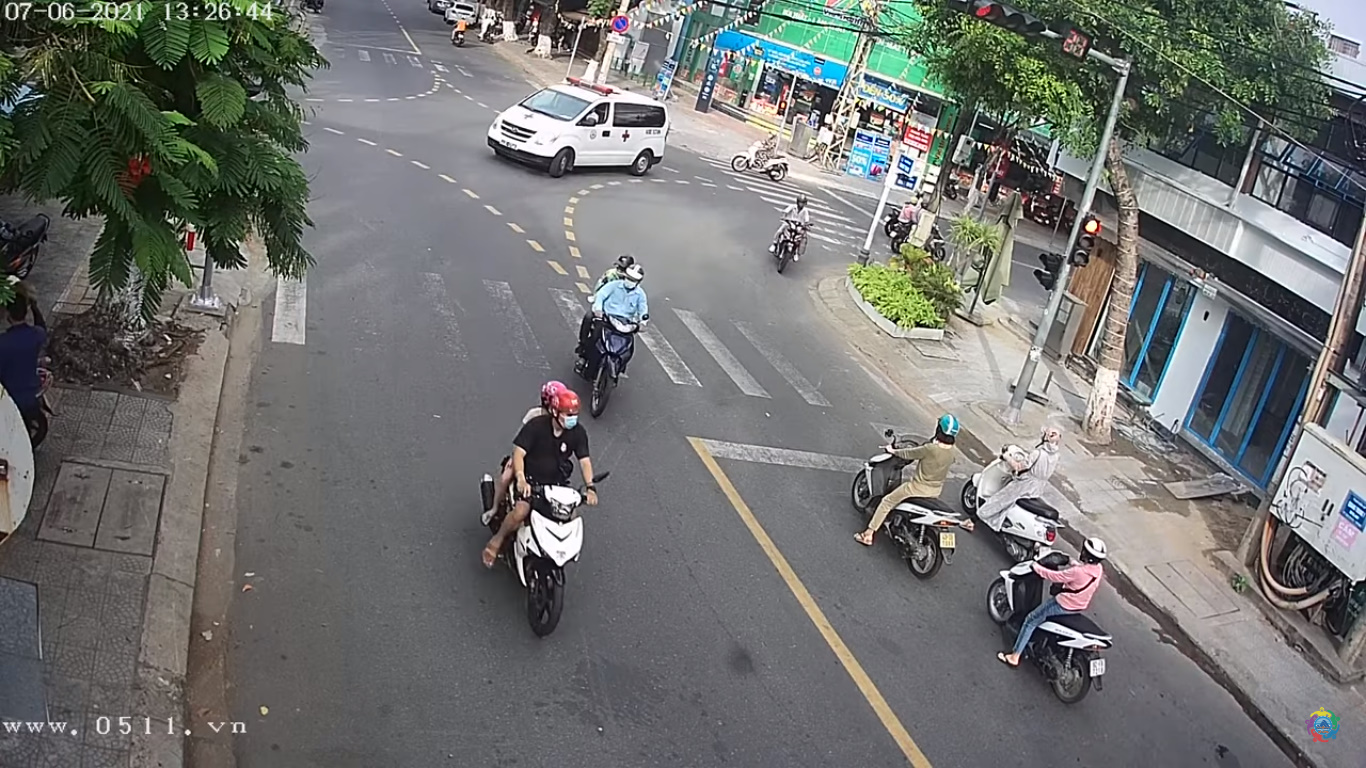car: (486, 82, 676, 180)
motorbike: (471, 380, 607, 646), (566, 254, 653, 414)
